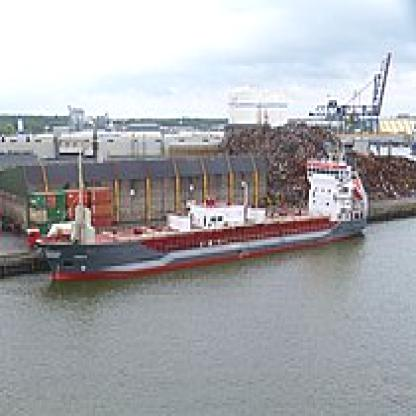Tanker: (34, 139, 370, 295)
